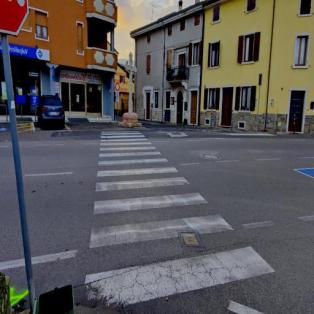Paso de Cebra: (91, 174, 209, 218), (97, 150, 169, 169)
